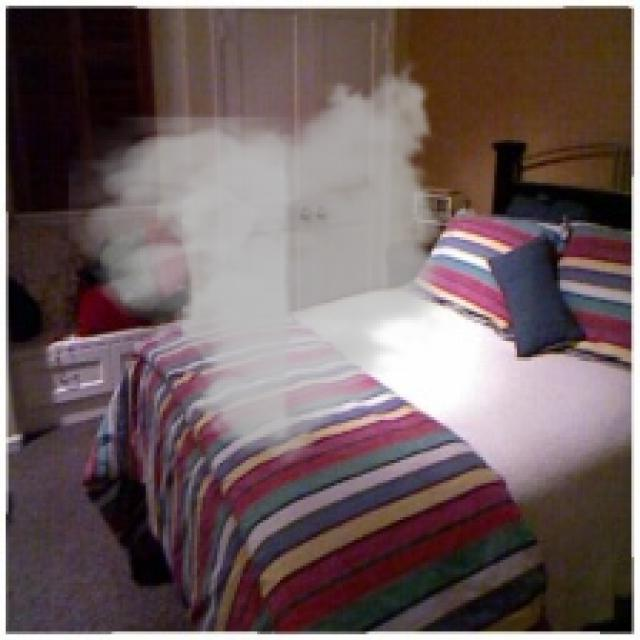smoke: (69, 52, 457, 477)
